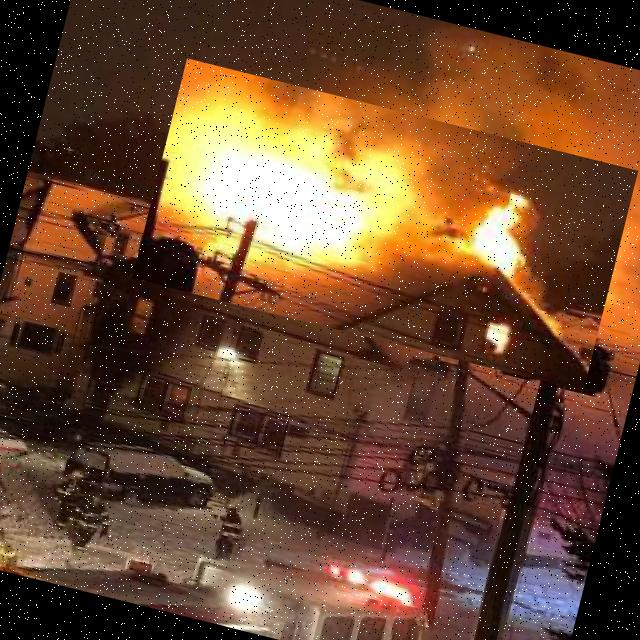fire: (132, 58, 638, 391)
